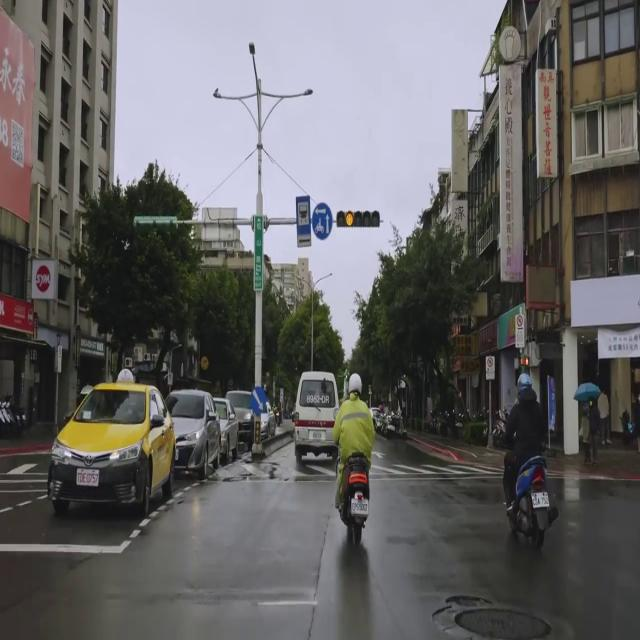yellow light: (336, 210, 380, 228)
